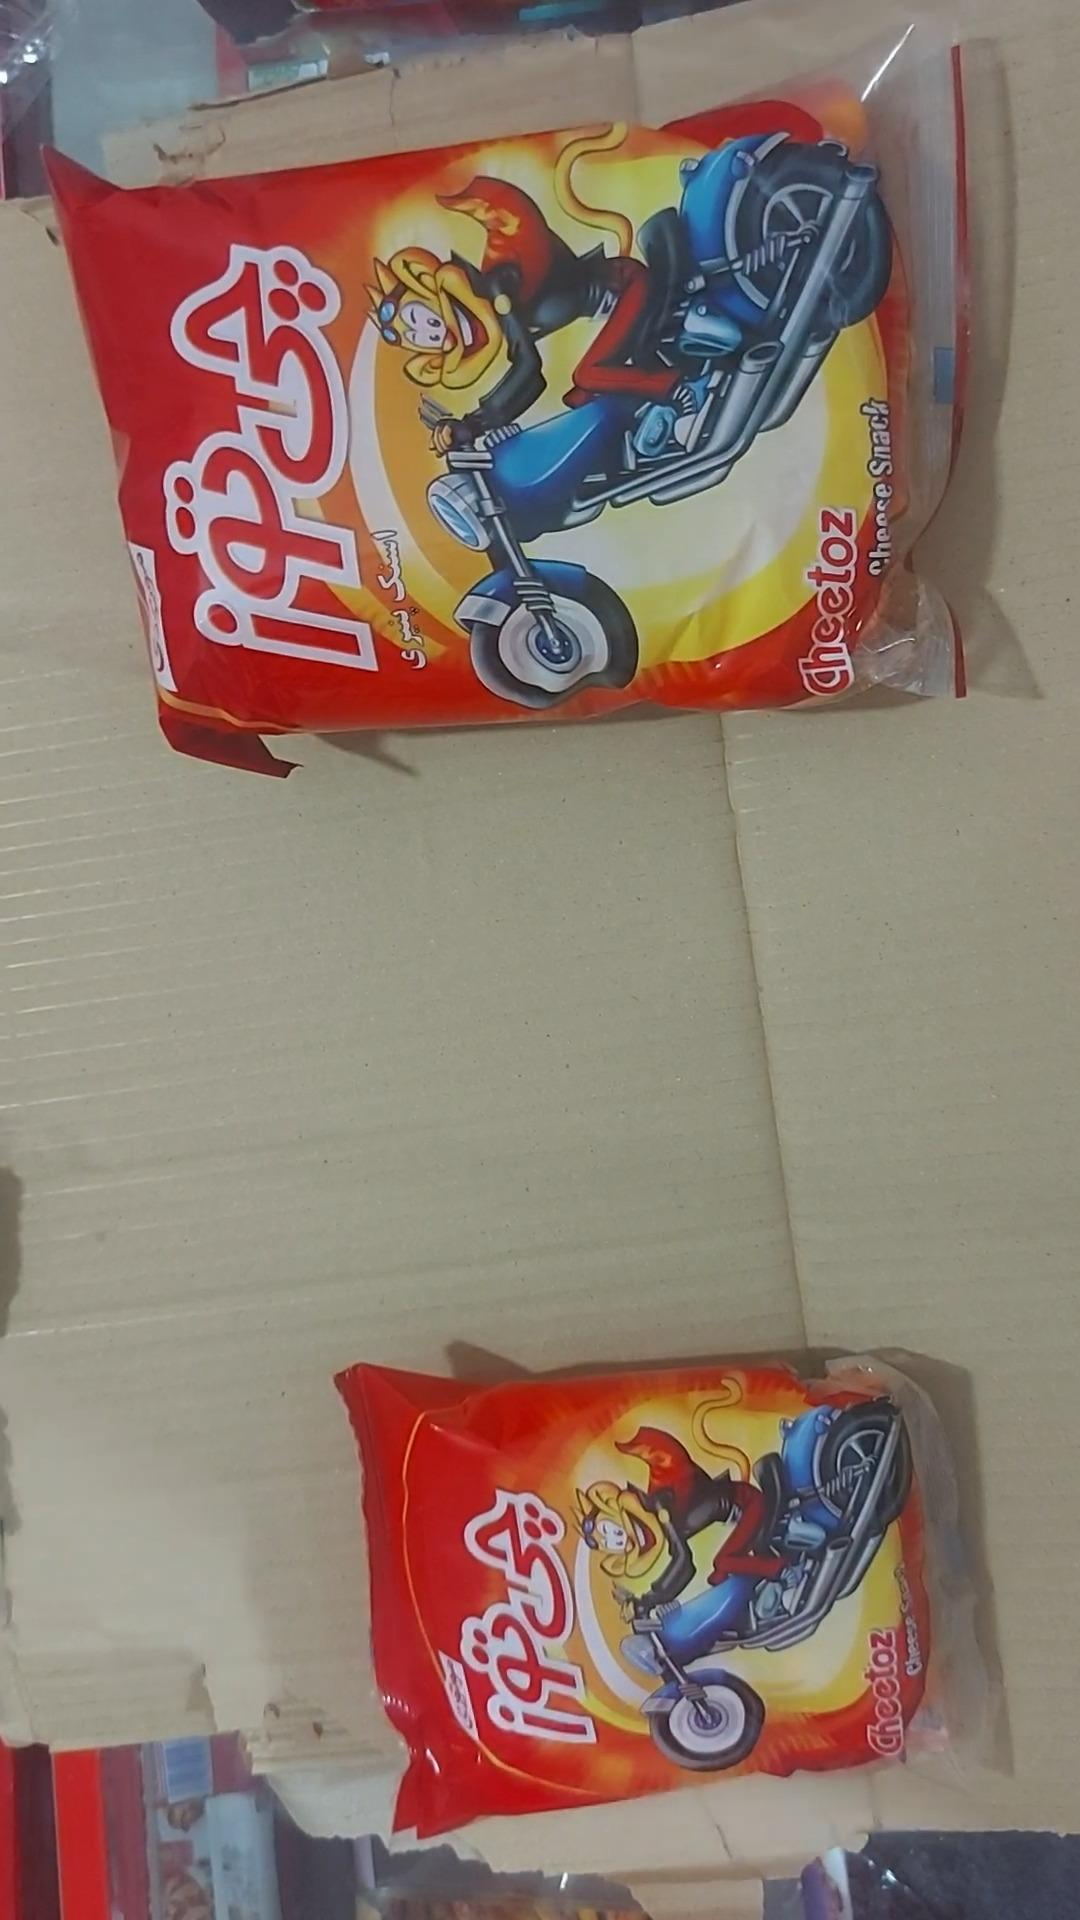Cheetoz snack 30g: (330, 1350, 1017, 1854)
Cheetoz snack 90g: (45, 22, 975, 782)
